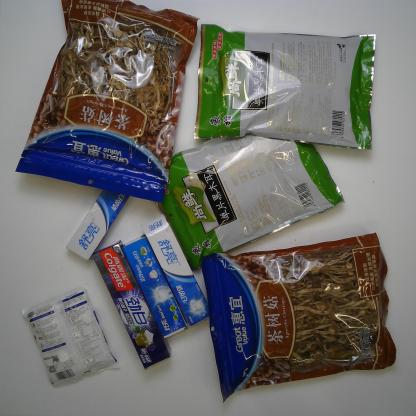Dried Food: (12, 0, 204, 206), (194, 232, 398, 407), (151, 133, 345, 275), (191, 20, 377, 155)
Personal Hygiene: (90, 238, 174, 370), (141, 214, 212, 328), (121, 232, 186, 340), (66, 189, 130, 261)
Seasoner: (20, 283, 117, 388)
